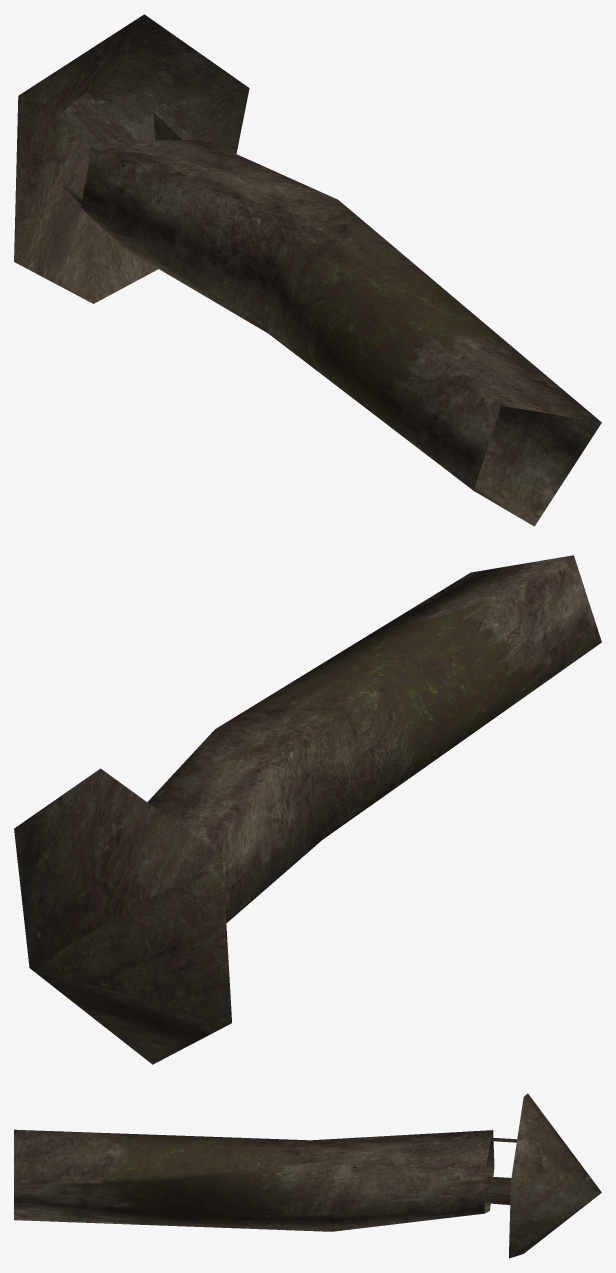
Rendered from TI_Chimney_02_LOD_01.fbx.
3 renders of one model, top to bottom at view 1: azimuth 30°, elevation 25°; view 2: azimuth 150°, elevation 25°; view 3: azimuth 270°, elevation 25°, orthographic. The views are drawn at different scales.
Visible parts, largest first — view 1: TI_Chimney_02_LOD_01; view 2: TI_Chimney_02_LOD_01; view 3: TI_Chimney_02_LOD_01.
Boxes of the visible parts, x1,y1,x2,y2 form: TI_Chimney_02_LOD_01: [14, 14, 601, 526]; TI_Chimney_02_LOD_01: [14, 555, 601, 1064]; TI_Chimney_02_LOD_01: [14, 1093, 601, 1258].
Bounding box in the file's own units: 0.9816 × 1.16 × 3.58.
